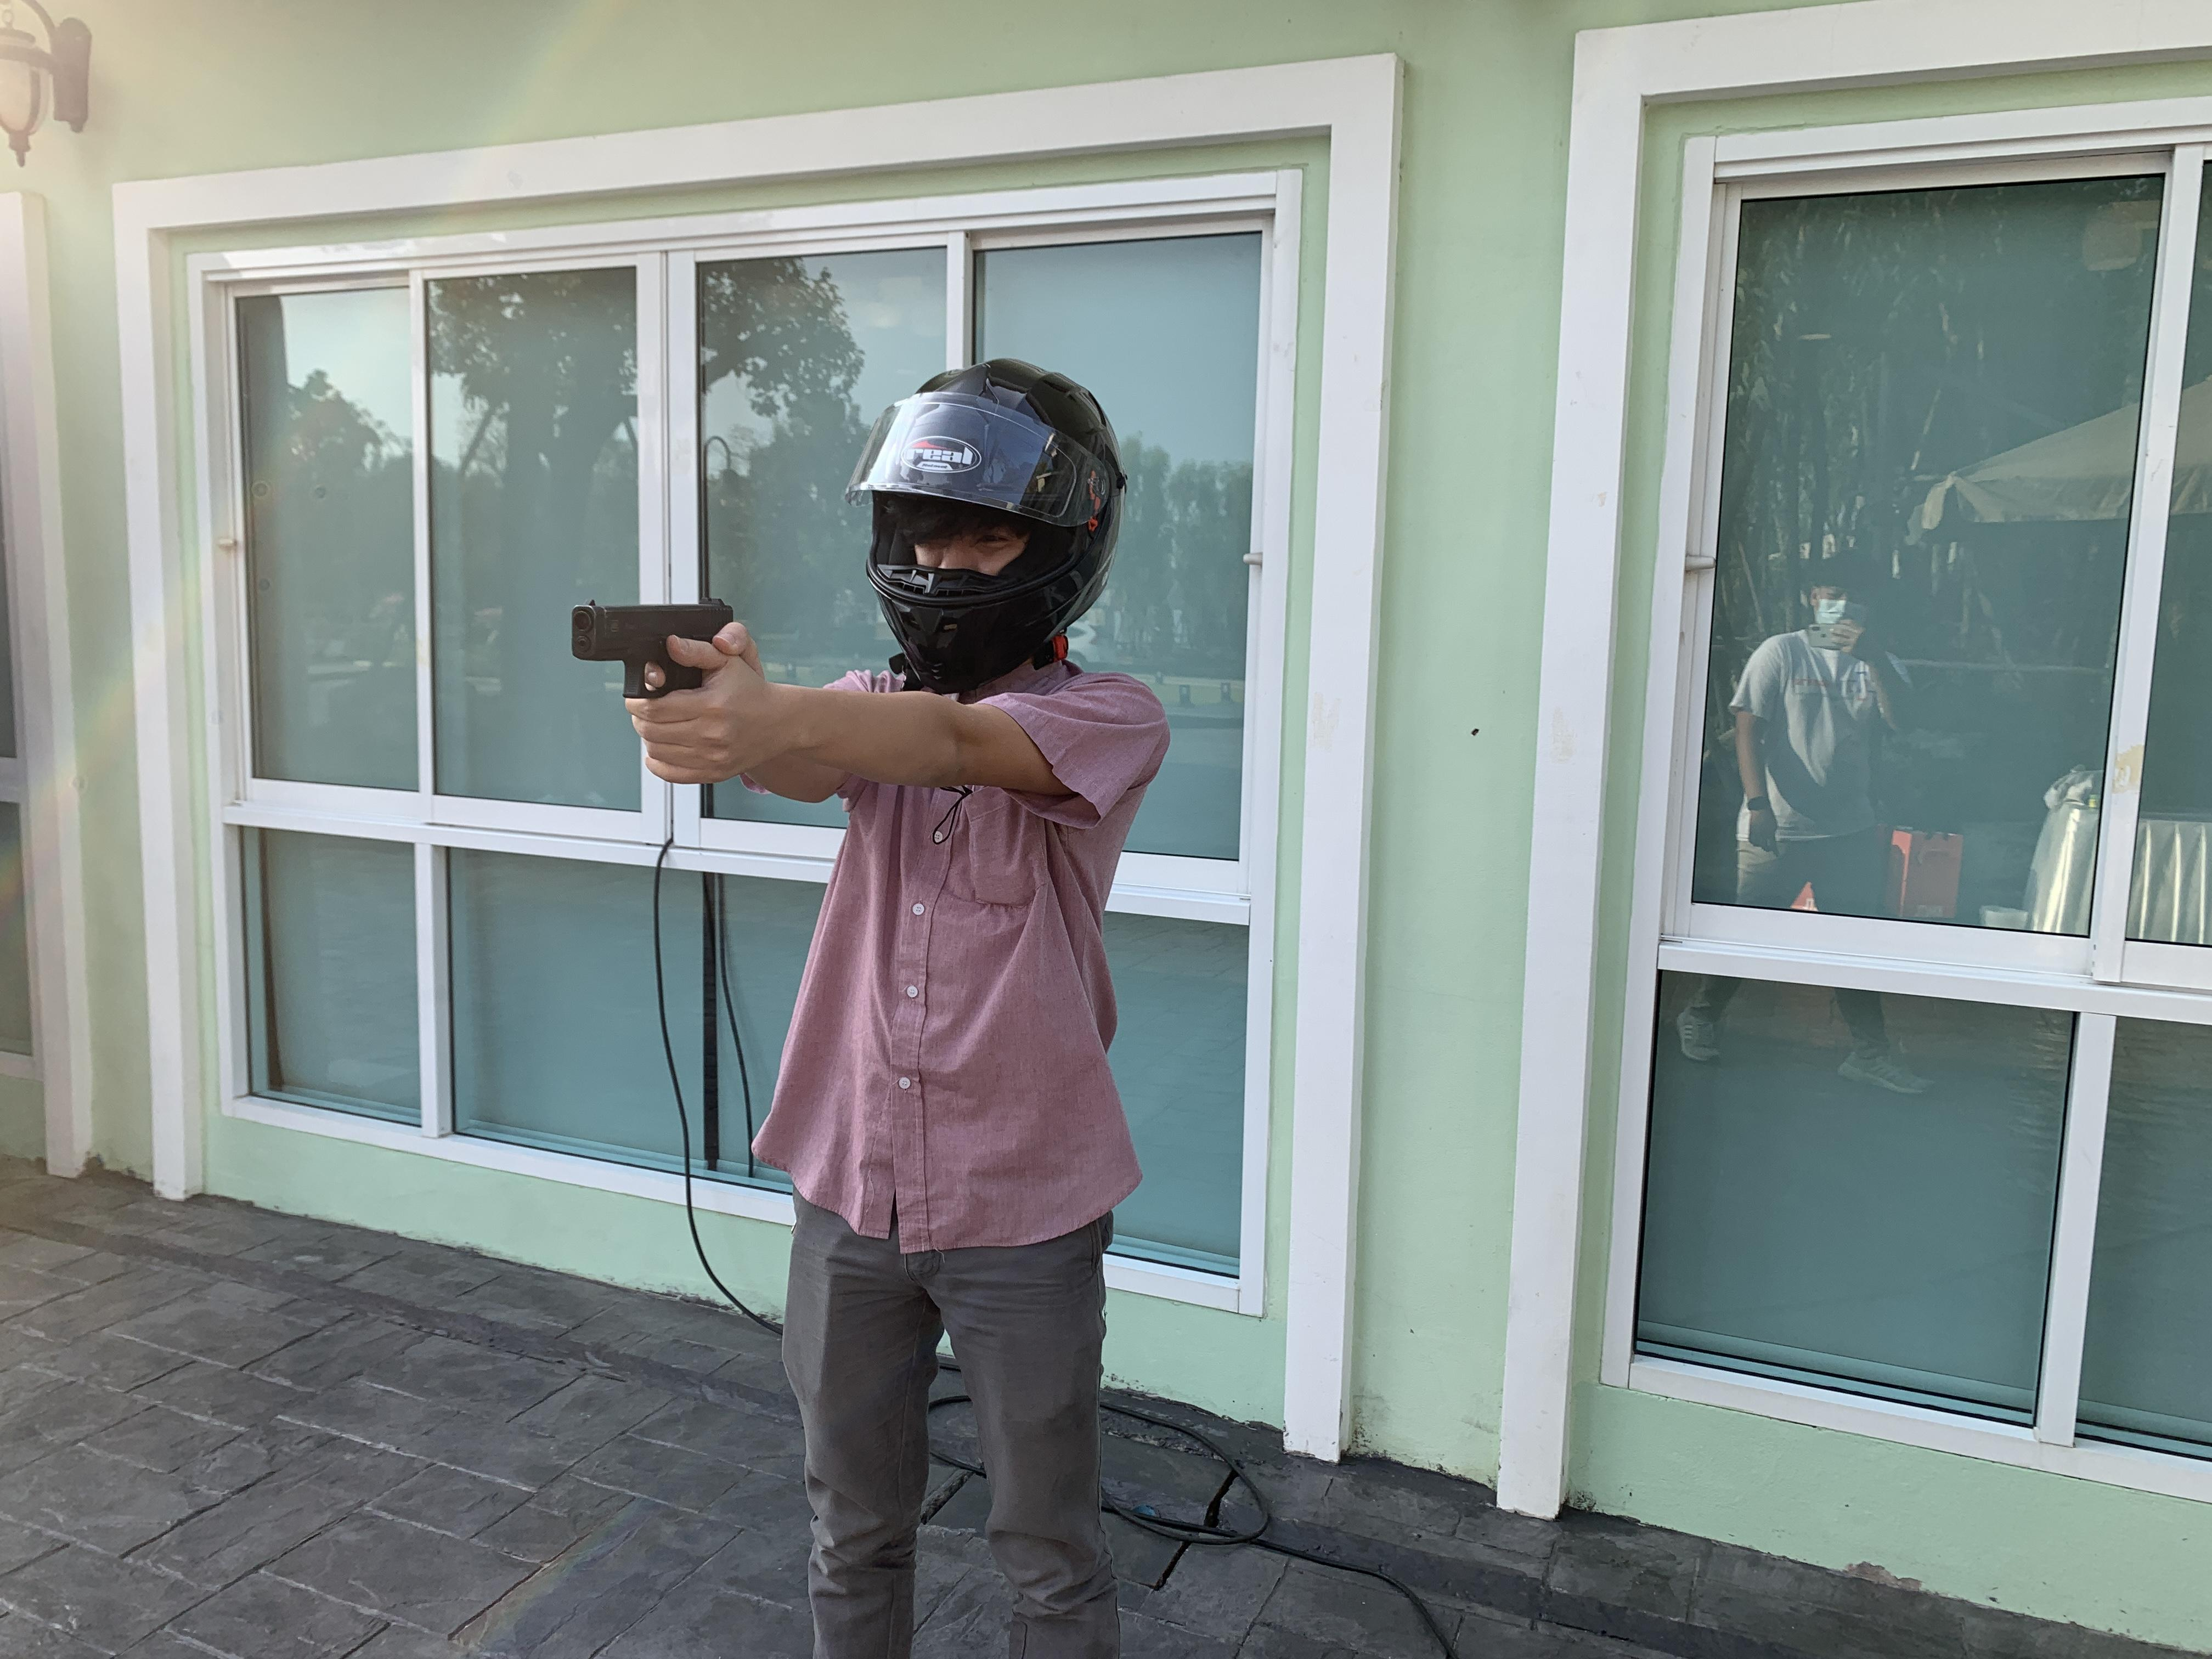criminal: (571, 349, 1170, 1659)
weapon: (568, 592, 742, 706)
